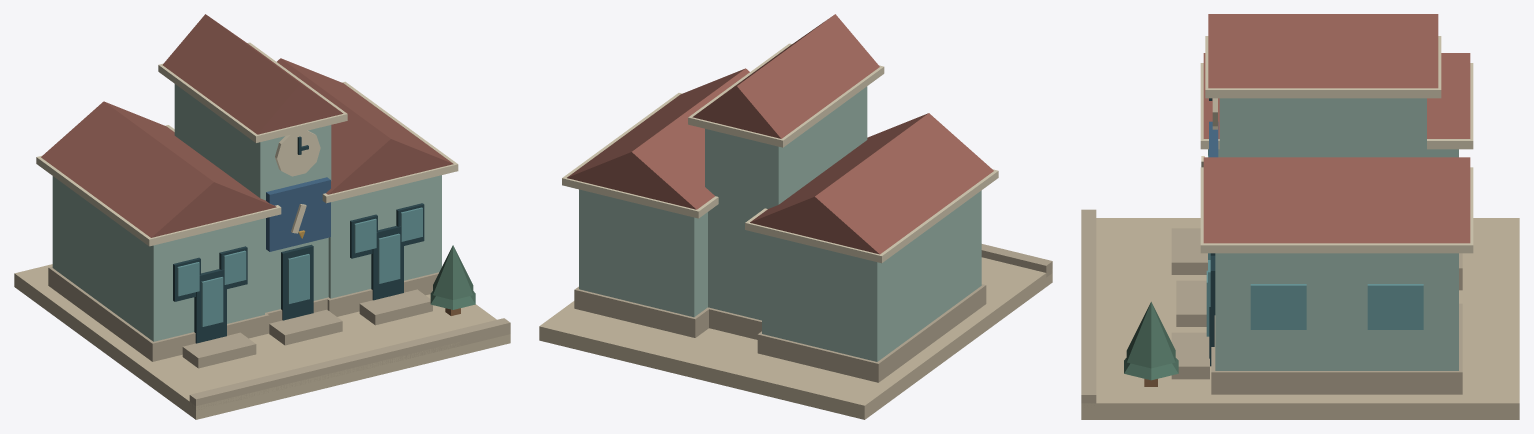
Rendered from school-seabreeze-complete.glb.
3 renders of one model, left to right at view 1: azimuth 30°, elevation 25°; view 2: azimuth 150°, elevation 25°; view 3: azimuth 270°, elevation 25°, orthographic. The views are drawn at different scales.
Visible parts, largest first — view 1: school; view 2: school; view 3: school.
Part boxes in pixels (x1,y1,x2,y2): school: [14, 14, 510, 419]; school: [539, 14, 1052, 419]; school: [1081, 14, 1519, 419].
Size of the model in its own units: 2.88 by 2.27 by 2.88.
